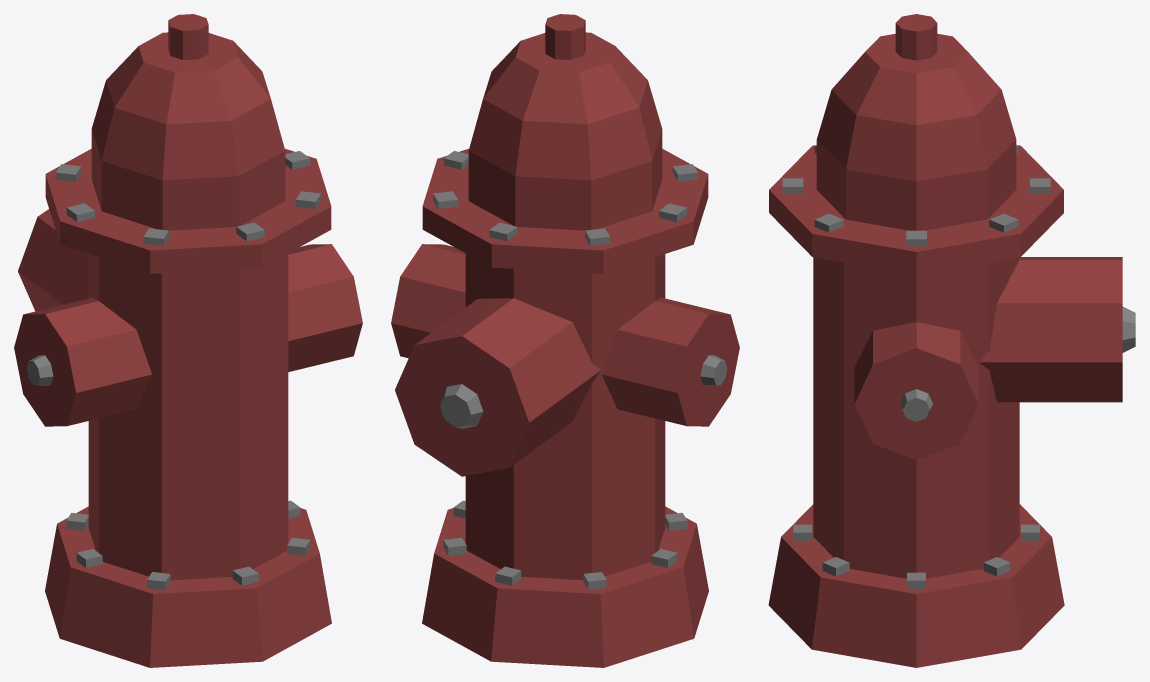
Rendered from fire_hydrant_low_poly.glb.
3 renders of one model, left to right at view 1: azimuth 30°, elevation 25°; view 2: azimuth 150°, elevation 25°; view 3: azimuth 270°, elevation 25°, orthographic.
Visible parts, largest first — view 1: File_hydrant_01; view 2: File_hydrant_01; view 3: File_hydrant_01.
Boxes of the visible parts, box(x1,y1,x2,y2) form: File_hydrant_01: box(14, 14, 362, 667); File_hydrant_01: box(391, 14, 739, 667); File_hydrant_01: box(768, 14, 1135, 667).
Size of the model in its own units: 0.429 by 0.7724 by 0.441.
Materials: 1 (1 with a texture image).
